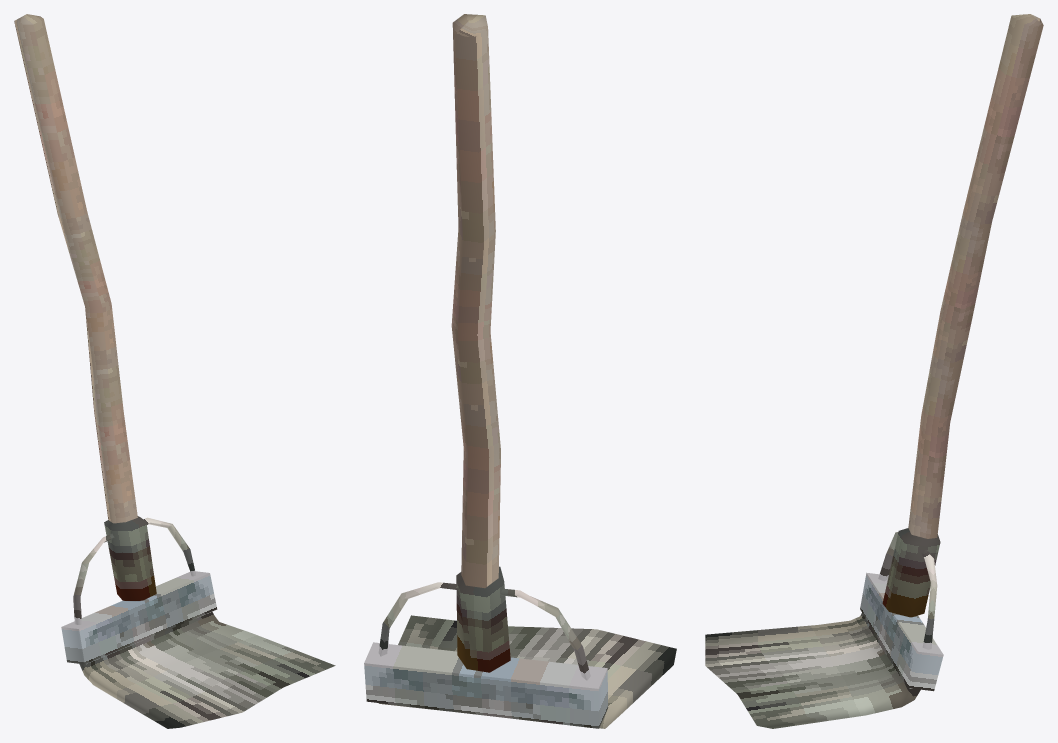
Rendered from hoki5.glb.
The picture shows the model from 3 angles, left to right: view 1: azimuth 30°, elevation 25°; view 2: azimuth 150°, elevation 25°; view 3: azimuth 270°, elevation 25°; orthographic projection. The views are drawn at different scales.
Visible parts, largest first — view 1: hoki5; view 2: hoki5; view 3: hoki5.
Boxes of the visible parts, x1,y1,x2,y2 form: hoki5: [14, 14, 335, 728]; hoki5: [364, 14, 676, 728]; hoki5: [705, 14, 1043, 728].
Size of the model in its own units: 78 by 215 by 105.
2 materials, 2 textured.
